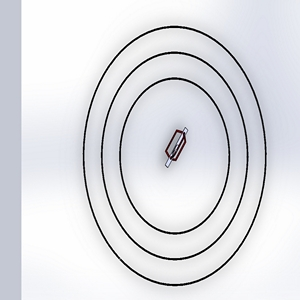circle: (76, 20, 273, 288)
submarine: (153, 123, 199, 175)
